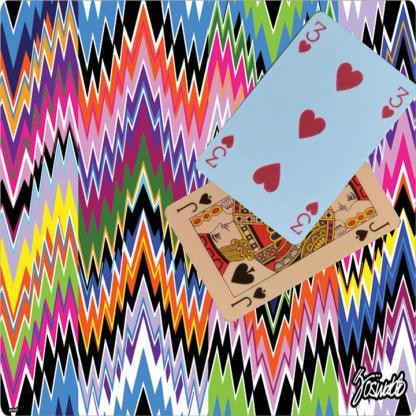3h: (286, 198, 320, 236), (295, 18, 328, 54)
Js: (228, 284, 268, 308)
